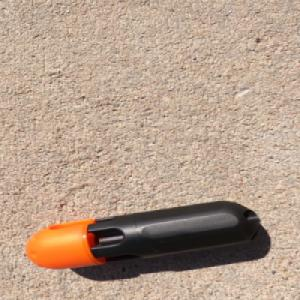PlasticPart: (22, 199, 263, 269)
